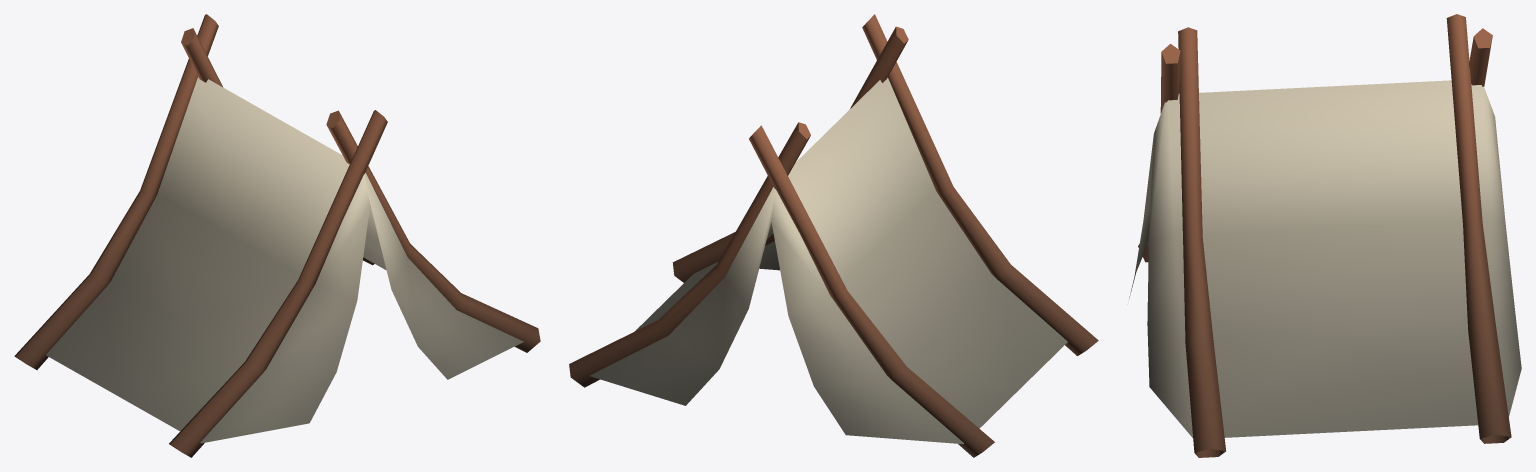
The model's file is tent4.fbx.
The picture shows the model from 3 angles, left to right: view 1: azimuth 30°, elevation 25°; view 2: azimuth 150°, elevation 25°; view 3: azimuth 270°, elevation 25°; orthographic projection. The views are drawn at different scales.
Visible parts, largest first — view 1: tent4; view 2: tent4; view 3: tent4.
Boxes of the visible parts, box(x1,y1,x2,y2) form: tent4: box(14, 14, 540, 457); tent4: box(569, 14, 1098, 457); tent4: box(1129, 14, 1521, 457).
Bounding box in the file's own units: 651 × 434 × 476.
